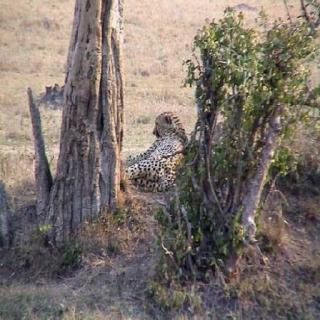Leopard: (129, 98, 190, 204)
